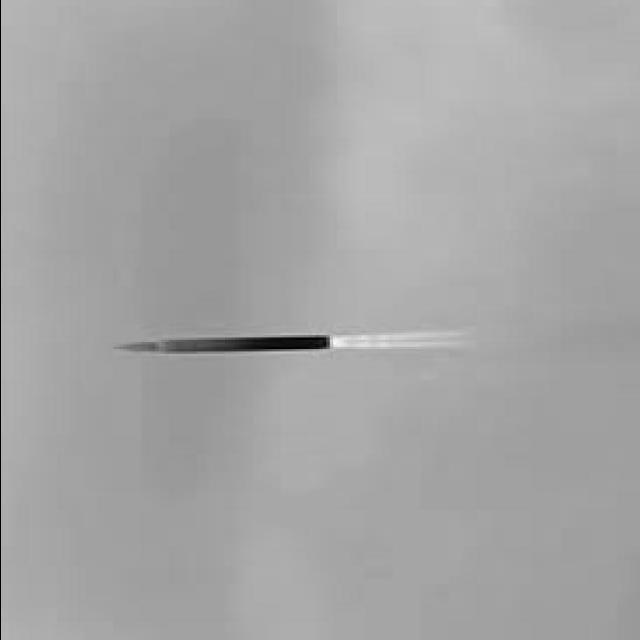missile: (110, 330, 352, 358)
